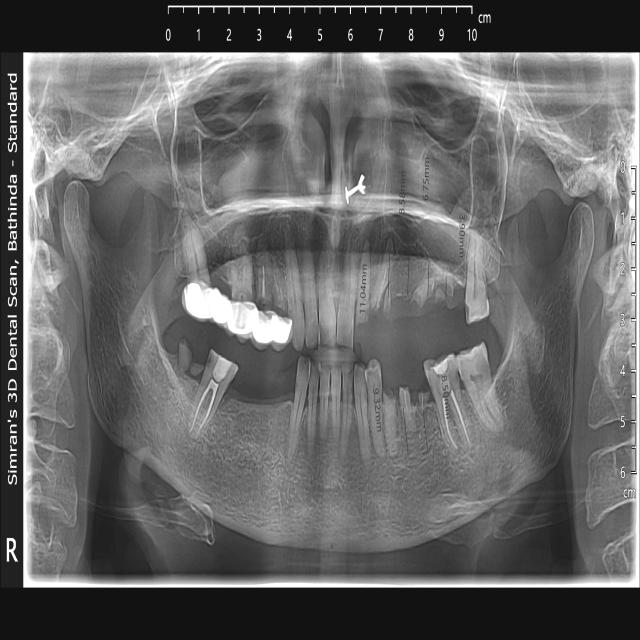Crown: (186, 277, 294, 346)
Missing teeth: (231, 382, 291, 428)
Root Canal Treatment: (426, 350, 475, 454), (188, 349, 238, 443), (254, 249, 290, 350)
Root Piece: (369, 248, 390, 321), (401, 388, 431, 436), (354, 243, 371, 327), (177, 339, 206, 378), (383, 392, 399, 456), (412, 279, 431, 306)
